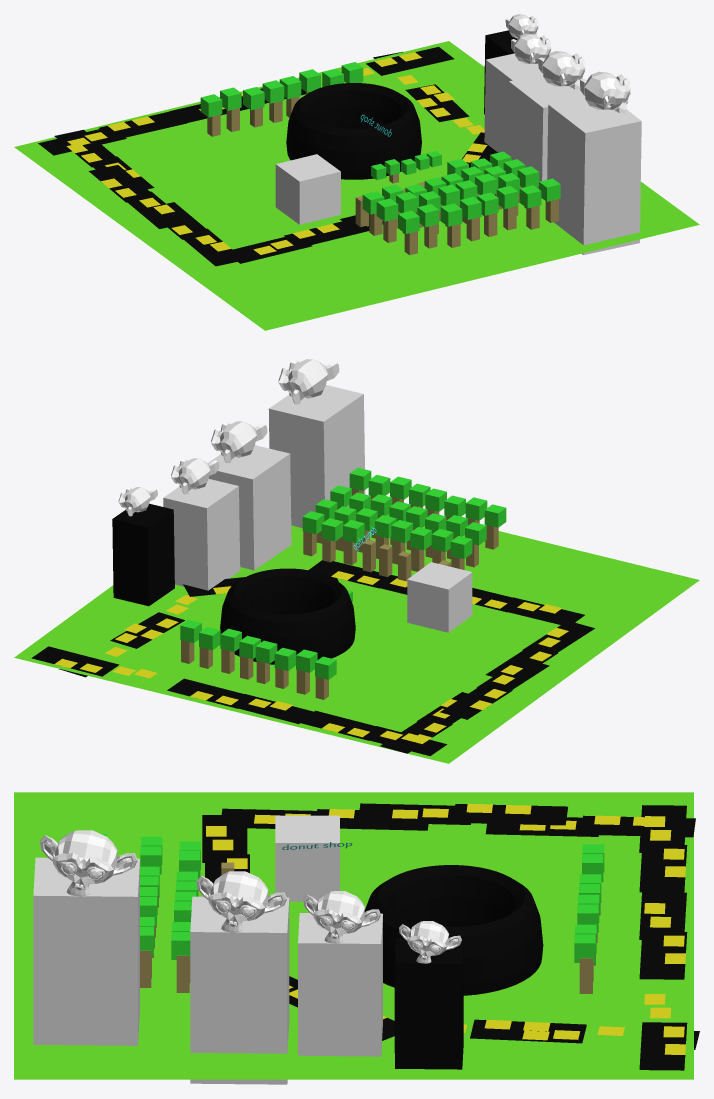
Rendered from jacksonscity.glb.
The picture shows the model from 3 angles, top to bottom: view 1: azimuth 30°, elevation 25°; view 2: azimuth 150°, elevation 25°; view 3: azimuth 270°, elevation 25°; orthographic projection. The views are drawn at different scales.
Parts seen in each view (by area): view 1: Plane, Cube.084, Torus, Cube.083, Cube.001, Cube.082, Suzanne.003, Suzanne.002, Plane.059, Plane.077, Plane.041, Suzanne.001 (+10 smaller); view 2: Plane, Torus, Cube.084, Cube.082, Cube.083, Cube, Cube.001, Suzanne.003, Suzanne.002, Suzanne.001, Plane.059, Plane.077 (+10 smaller); view 3: Plane, Cube.084, Cube.083, Torus, Cube.082, Cube, Cube.001, Suzanne.003, Suzanne.002, Suzanne.001, Plane.071, Plane.077 (+21 smaller).
Boxes of the visible parts, left/top/right/bottom form: Plane: left=14, top=41, right=699, bottom=330; Cube.084: left=547, top=96, right=641, bottom=254; Torus: left=286, top=83, right=421, bottom=179; Cube.083: left=507, top=74, right=585, bottom=198; Cube.001: left=275, top=154, right=340, bottom=224; Cube.082: left=484, top=53, right=543, bottom=153; Suzanne.003: left=580, top=71, right=630, bottom=113; Suzanne.002: left=538, top=51, right=585, bottom=89; Plane.059: left=99, top=111, right=186, bottom=139; Plane.077: left=366, top=47, right=453, bottom=75; Plane.041: left=88, top=165, right=154, bottom=202; Suzanne.001: left=511, top=33, right=551, bottom=63; Plane: left=14, top=514, right=699, bottom=763; Torus: left=220, top=568, right=355, bottom=664; Cube.084: left=268, top=385, right=365, bottom=527; Cube.082: left=163, top=479, right=240, bottom=590; Cube.083: left=208, top=445, right=291, bottom=570; Cube: left=112, top=503, right=174, bottom=606; Cube.001: left=407, top=562, right=472, bottom=632; Suzanne.003: left=278, top=359, right=339, bottom=404; Suzanne.002: left=211, top=421, right=267, bottom=463; Suzanne.001: left=171, top=458, right=219, bottom=494; Plane.059: left=298, top=710, right=386, bottom=740; Plane.077: left=31, top=646, right=119, bottom=676; Plane: left=14, top=792, right=693, bottom=1079; Cube.084: left=33, top=857, right=139, bottom=1045; Cube.083: left=190, top=896, right=289, bottom=1084; Torus: left=364, top=865, right=543, bottom=995; Cube.082: left=298, top=913, right=382, bottom=1056; Cube: left=394, top=938, right=463, bottom=1069; Cube.001: left=275, top=815, right=339, bottom=901; Suzanne.003: left=40, top=830, right=137, bottom=896; Suzanne.002: left=196, top=871, right=286, bottom=932; Suzanne.001: left=303, top=891, right=380, bottom=943; Plane.071: left=639, top=931, right=687, bottom=979; Plane.077: left=639, top=1022, right=687, bottom=1070.
Size of the model in its own units: 815 by 313 by 822.
